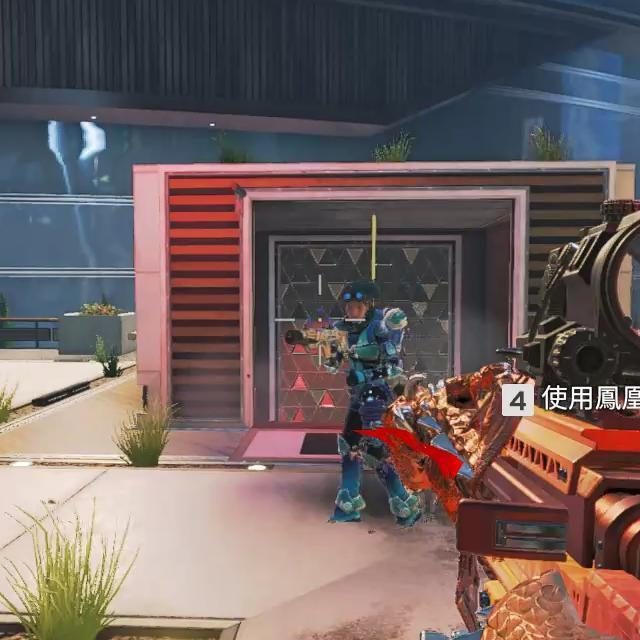avatar: (322, 278, 424, 532)
